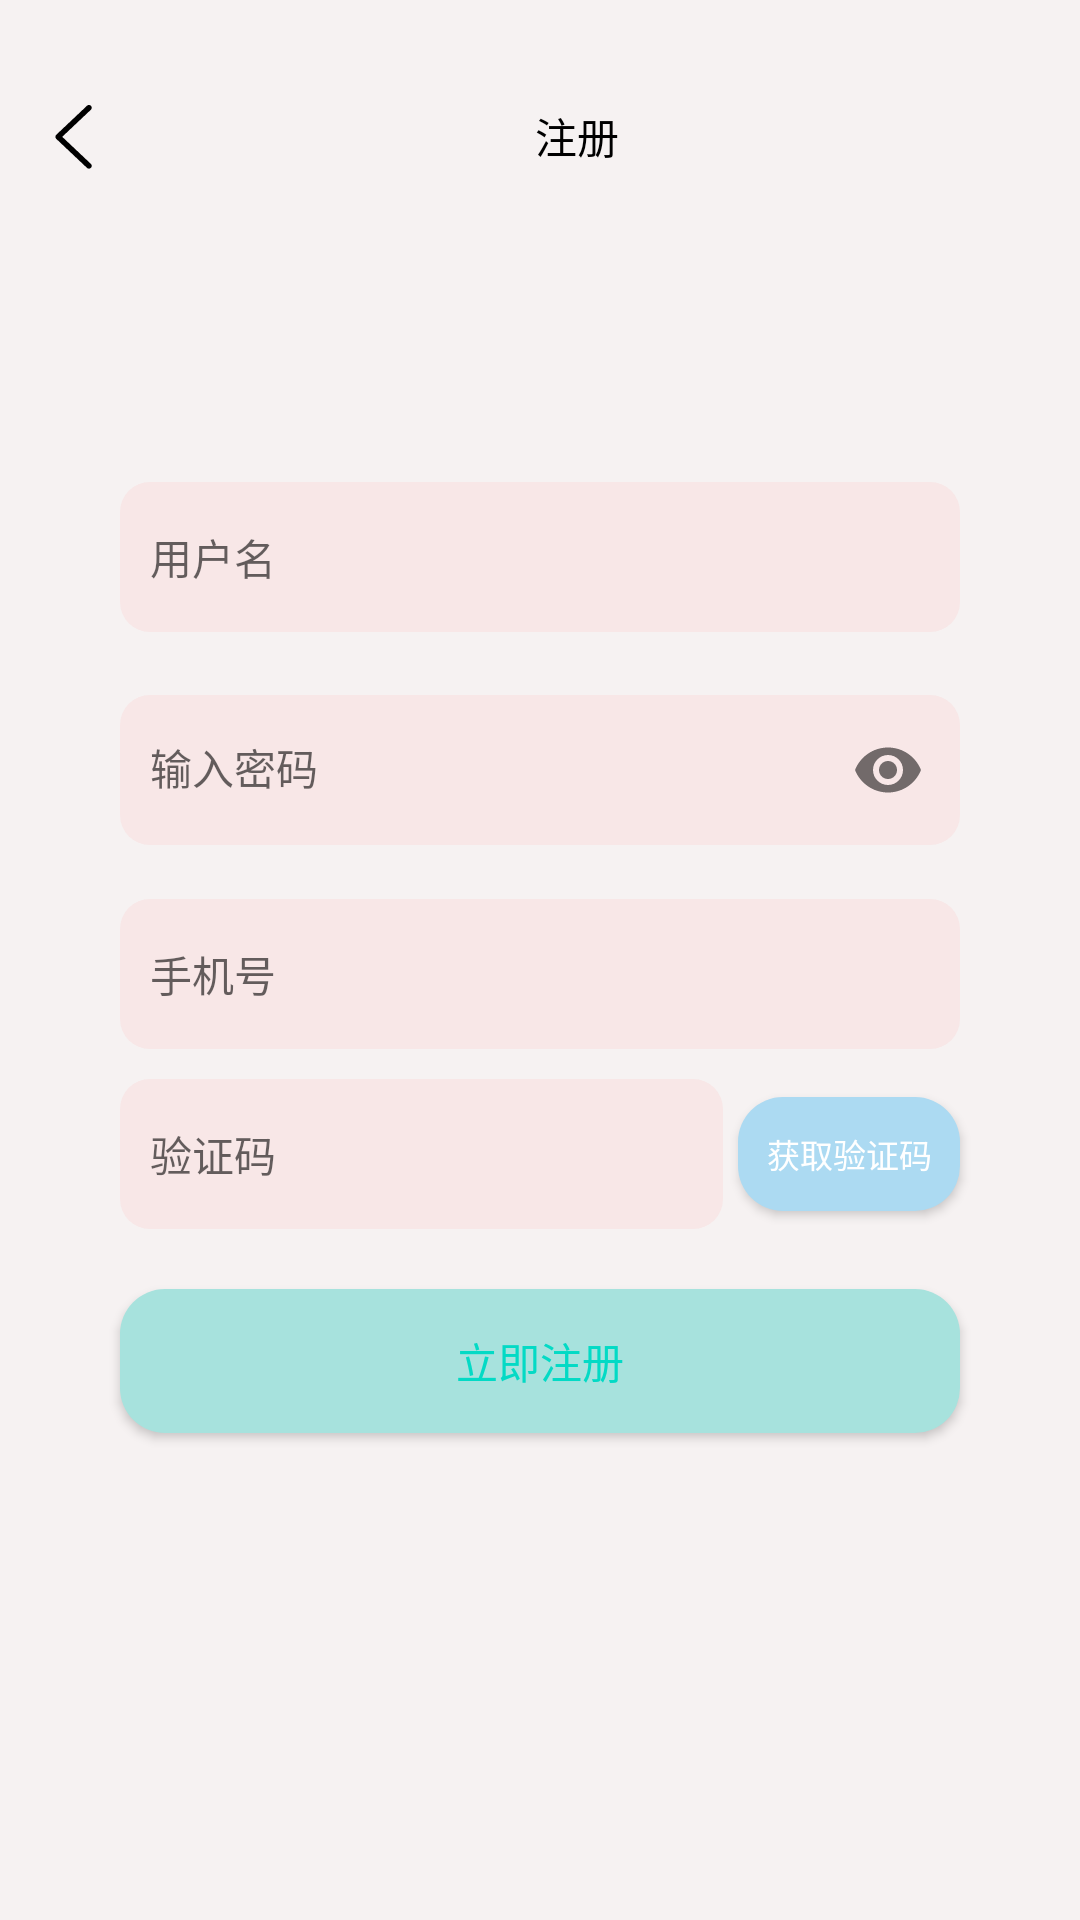

Named icons in this screenshot (1080 x 1920) and their centers, [x,y]:
back: [73,137]
